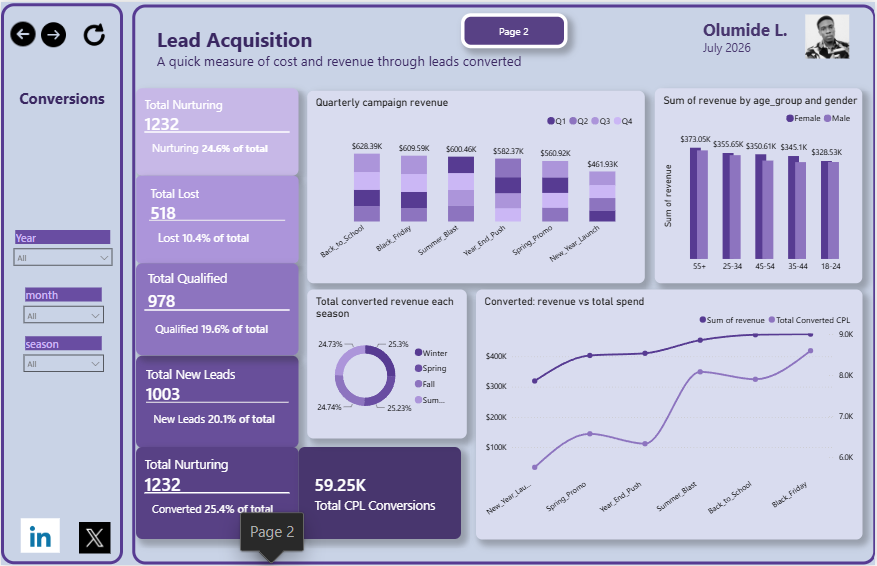

The page's visual inventory and layout, read from the dashboard file:
{"tool":"powerbi","page":{"name":"Page 2","canvas":[1400,900],"ordinal":1},"visuals":[{"type":"cardVisual","fields":{"Data":["my_output_file.Total New Leads"]},"box":[215,565,260,147.5],"z":0},{"type":"cardVisual","fields":{"Data":["my_output_file.Total Nurturing"]},"box":[215,137.5,260,140],"z":1000},{"type":"cardVisual","fields":{"Data":["my_output_file.Total Lost"]},"box":[215,277.5,260,140],"z":2000},{"type":"cardVisual","fields":{"Data":["my_output_file.Total Qualified"]},"box":[215,417.5,260,147.5],"z":3000},{"type":"cardVisual","fields":{"Data":["my_output_file.Total Nurturing"]},"box":[215,712.5,260,147.5],"z":4000},{"type":"cardVisual","fields":{"Data":["my_output_file.Total Converted Revenue"]},"box":[475,712.5,260,147.5],"z":5000},{"type":"shape","box":[0,2.5,195,897.5],"z":6000},{"type":"columnChart","title":"Quarterly campaign revenue","fields":{"Category":["my_output_file.campaign_name"],"Y":["Sum(my_output_file.revenue)"],"Series":["my_output_file.quarter"]},"box":[490,142,540,308],"z":7000},{"type":"pieChart","title":"Total converted revenue each season","fields":{"Category":["my_output_file.season"],"Y":["my_output_file.Total Revenue"]},"box":[490,460,255,238],"z":8000},{"type":"clusteredColumnChart","fields":{"Category":["my_output_file.age_group"],"Y":["Sum(my_output_file.revenue)"],"Series":["my_output_file.gender"]},"box":[1046,138,332,312],"z":9000},{"type":"lineChart","title":"Converted: revenue vs total spend","fields":{"Y":["Sum(my_output_file.revenue)"],"Category":["my_output_file.campaign_name"],"Y2":["my_output_file.Total Converted CPL"]},"box":[760,460,618,400],"z":10000},{"type":"slicer","fields":{"Values":["my_output_file.year"]},"box":[10,360,178,100],"z":11000},{"type":"slicer","fields":{"Values":["my_output_file.month"]},"box":[26,452,148,78],"z":12000},{"type":"slicer","fields":{"Values":["my_output_file.season"]},"box":[26,530,148,64],"z":13000},{"type":"textbox","box":[244,32,910,84],"z":14000},{"type":"textbox","box":[20,132.5,155,72.5],"z":15000},{"type":"pageNavigator","box":[736,18,170,56],"z":16000},{"type":"image","box":[124,832,52,50],"z":17000},{"type":"image","box":[26,826,74,55],"z":18000},{"type":"image","box":[64,18,40,68],"z":19000},{"type":"image","box":[124,20,50,66],"z":20000},{"type":"image","box":[1286,20,72,70],"z":21000},{"type":"textbox","box":[1118,20,166,70],"z":22000},{"type":"image","box":[10,20,50,62],"z":23000},{"type":"shape","box":[210,4,1190,896],"z":24000}]}

Visuals, with their boxes in screenshot pixels (x1, y1, x2, y2), scaled from the page's 1400x900 canvas onto the 877x566 screenshot:
cardVisual - my_output_file.Total New Leads: {"left": 135, "top": 355, "right": 298, "bottom": 448}
cardVisual - my_output_file.Total Nurturing: {"left": 135, "top": 86, "right": 298, "bottom": 175}
cardVisual - my_output_file.Total Lost: {"left": 135, "top": 175, "right": 298, "bottom": 263}
cardVisual - my_output_file.Total Qualified: {"left": 135, "top": 263, "right": 298, "bottom": 355}
cardVisual - my_output_file.Total Nurturing: {"left": 135, "top": 448, "right": 298, "bottom": 541}
cardVisual - my_output_file.Total Converted Revenue: {"left": 298, "top": 448, "right": 460, "bottom": 541}
shape: {"left": 0, "top": 2, "right": 122, "bottom": 565}
"Quarterly campaign revenue" columnChart: {"left": 307, "top": 89, "right": 645, "bottom": 283}
"Total converted revenue each season" pieChart: {"left": 307, "top": 289, "right": 467, "bottom": 439}
clusteredColumnChart - my_output_file.age_group x Sum(my_output_file.revenue): {"left": 655, "top": 87, "right": 863, "bottom": 283}
"Converted: revenue vs total spend" lineChart: {"left": 476, "top": 289, "right": 863, "bottom": 541}
slicer - my_output_file.year: {"left": 6, "top": 226, "right": 118, "bottom": 289}
slicer - my_output_file.month: {"left": 16, "top": 284, "right": 109, "bottom": 333}
slicer - my_output_file.season: {"left": 16, "top": 333, "right": 109, "bottom": 374}
textbox: {"left": 153, "top": 20, "right": 723, "bottom": 73}
textbox: {"left": 13, "top": 83, "right": 110, "bottom": 129}
pageNavigator: {"left": 461, "top": 11, "right": 568, "bottom": 47}
image: {"left": 78, "top": 523, "right": 110, "bottom": 555}
image: {"left": 16, "top": 519, "right": 63, "bottom": 554}
image: {"left": 40, "top": 11, "right": 65, "bottom": 54}
image: {"left": 78, "top": 13, "right": 109, "bottom": 54}
image: {"left": 806, "top": 13, "right": 851, "bottom": 57}
textbox: {"left": 700, "top": 13, "right": 804, "bottom": 57}
image: {"left": 6, "top": 13, "right": 38, "bottom": 52}
shape: {"left": 132, "top": 3, "right": 876, "bottom": 565}
